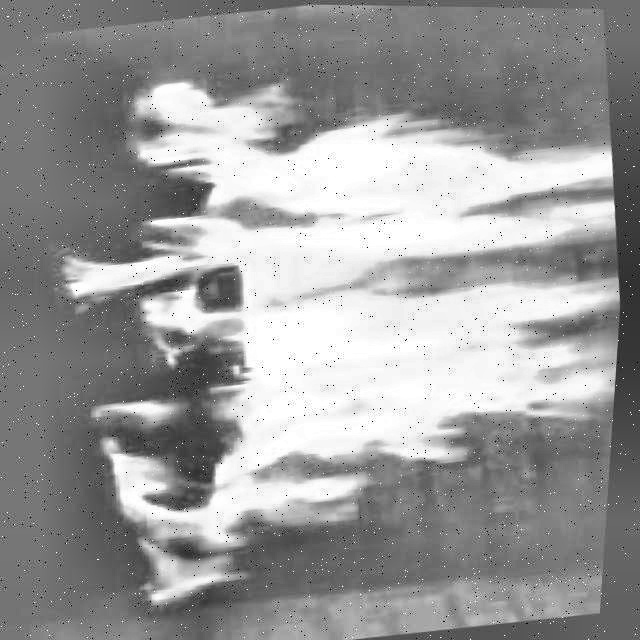Fire: (13, 10, 640, 626)
